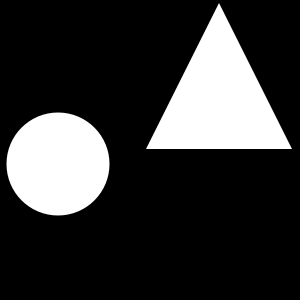circle: (40, 122, 51, 133)
rectangle: (6, 112, 110, 215)
triangle: (146, 3, 292, 149)
